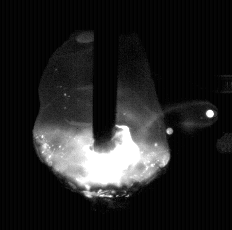arame: (93, 0, 117, 152)
poca: (32, 0, 167, 230)
